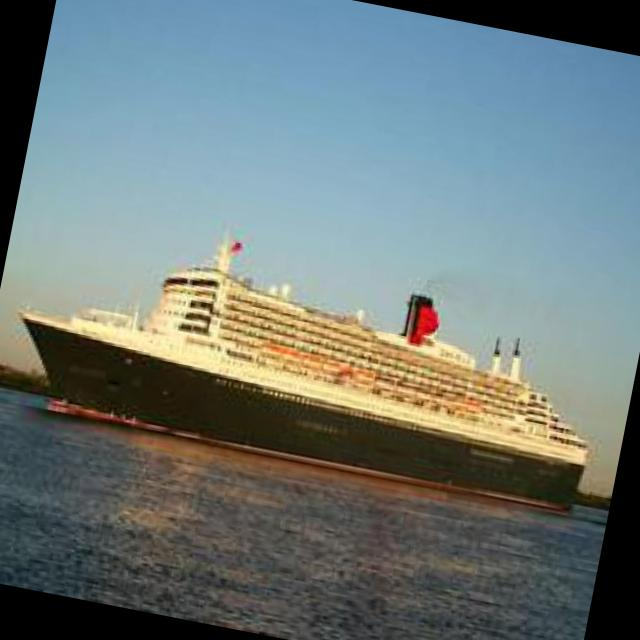boat: (3, 226, 620, 538)
